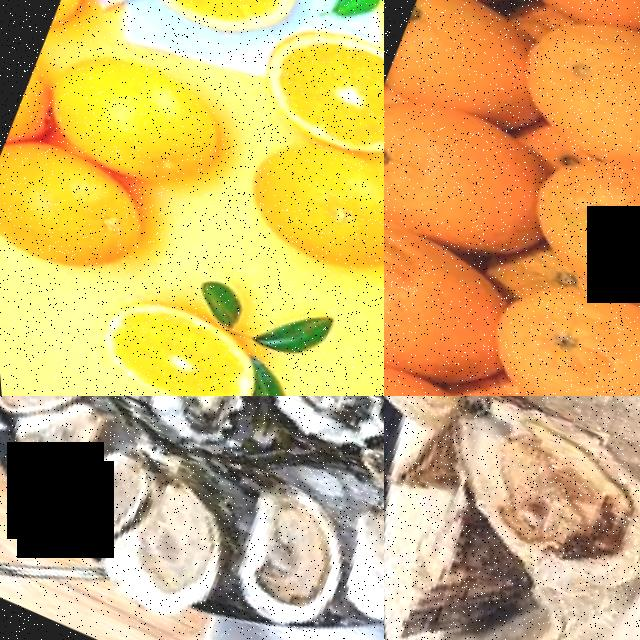orange: (21, 28, 244, 213), (384, 75, 564, 278), (219, 120, 384, 297), (0, 125, 164, 300), (501, 135, 640, 327), (236, 4, 384, 183), (384, 198, 515, 396), (497, 0, 640, 179), (460, 256, 640, 396), (69, 278, 262, 396), (384, 0, 541, 129), (107, 0, 313, 55), (384, 328, 521, 396), (495, 0, 640, 49)
oysters: (408, 396, 640, 607), (193, 468, 365, 640), (93, 470, 240, 630), (26, 430, 160, 559), (235, 396, 384, 466), (0, 396, 99, 494), (126, 396, 254, 456), (0, 396, 87, 430)
